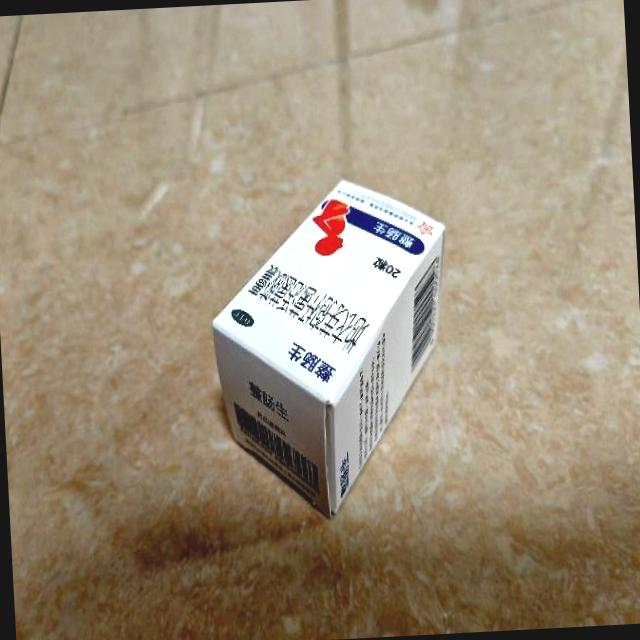box: (203, 172, 458, 522)
